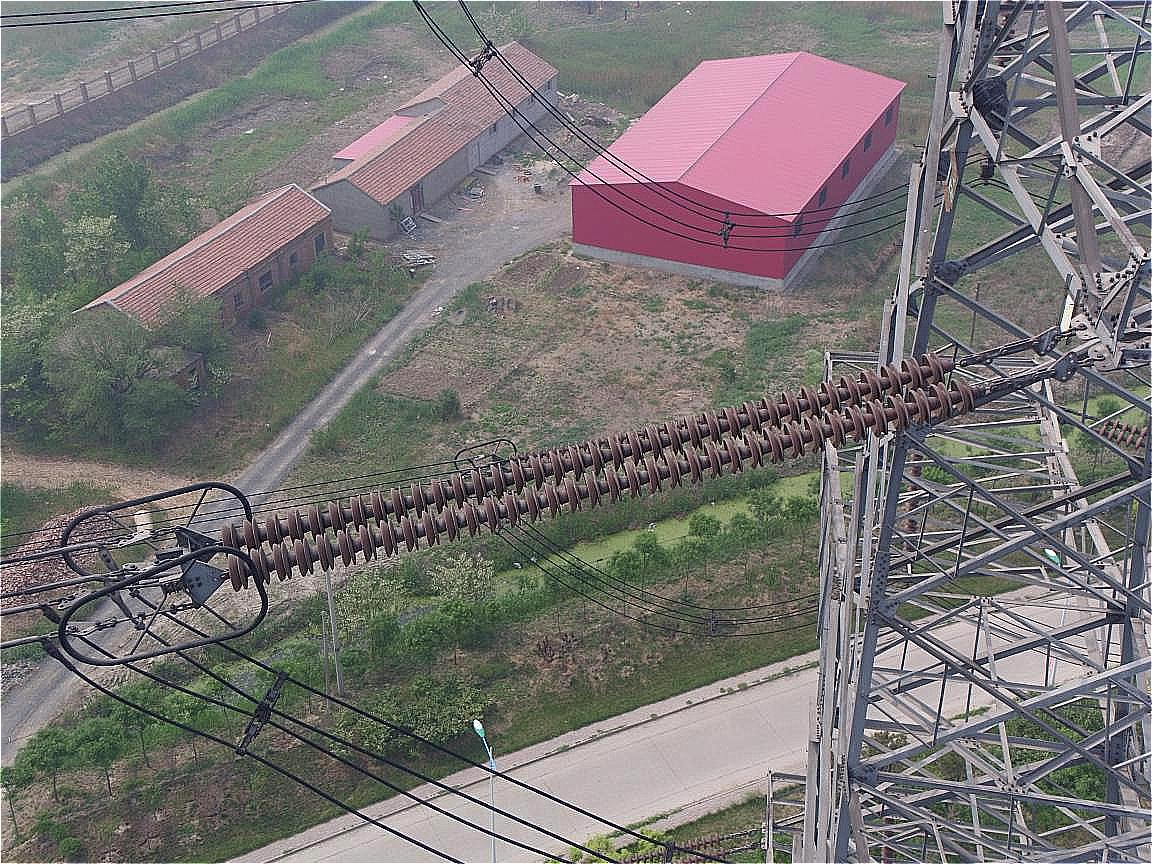insultor2: (204, 341, 993, 598)
